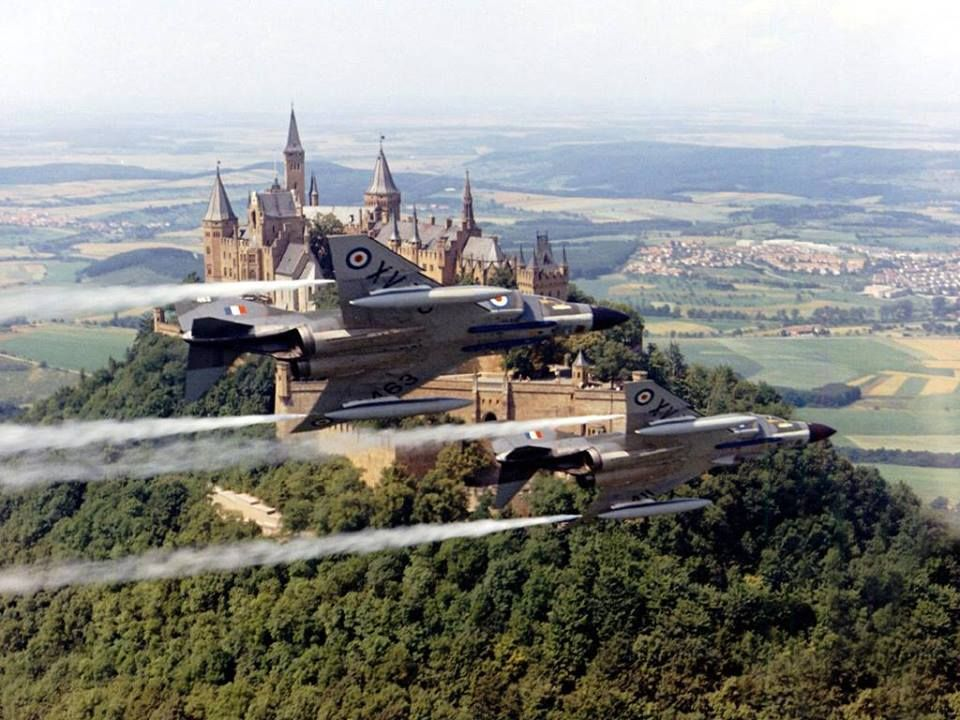F4: (173, 232, 631, 434), (483, 379, 838, 532)
